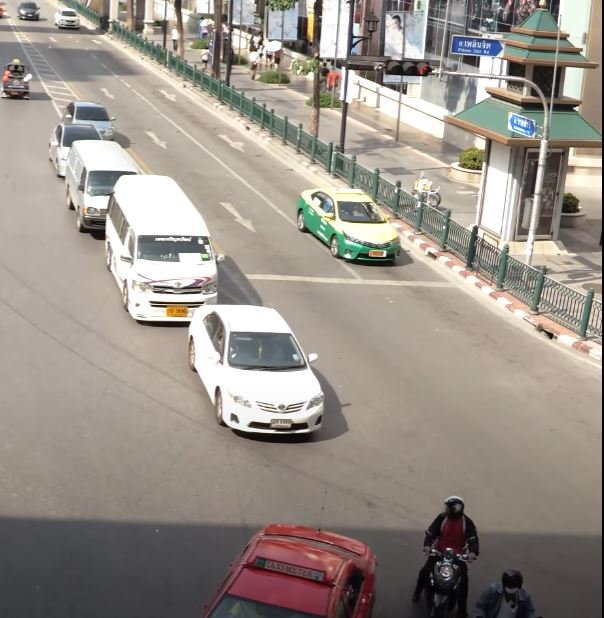Bus: (103, 172, 220, 325), (62, 140, 138, 231)
Car: (186, 302, 325, 437), (185, 523, 378, 618), (294, 185, 403, 266), (48, 123, 103, 173), (62, 99, 115, 140), (53, 8, 80, 29), (17, 2, 40, 22)
Motorcycle: (414, 495, 478, 618)
TukTuk: (2, 58, 32, 102)
